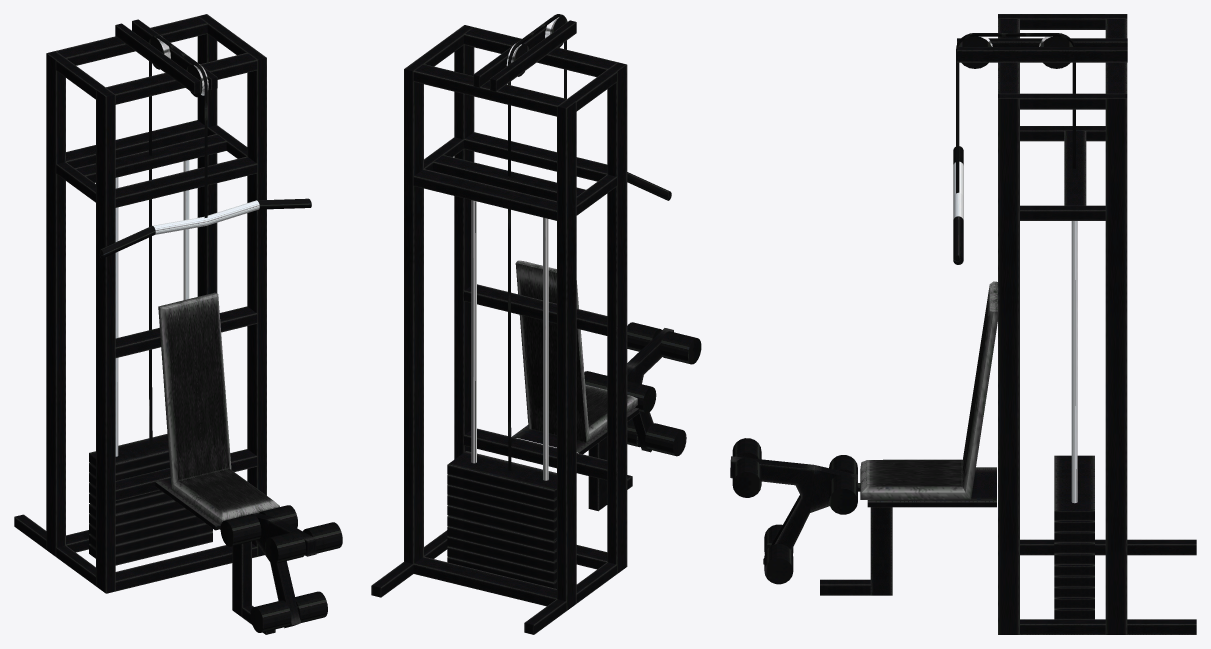
File: gym_bench2.obj
The picture shows the model from 3 angles, left to right: view 1: azimuth 30°, elevation 25°; view 2: azimuth 150°, elevation 25°; view 3: azimuth 270°, elevation 25°; orthographic projection. The views are drawn at different scales.
Visible parts, largest first — view 1: gym_bench2; view 2: gym_bench2; view 3: gym_bench2.
Part boxes in pixels (bbox=[...]): gym_bench2: bbox=[14, 14, 342, 634]; gym_bench2: bbox=[371, 14, 701, 634]; gym_bench2: bbox=[730, 14, 1196, 634].
Bounding box in the file's own units: 1 × 2.39 × 1.8.
6 materials, 6 textured.
